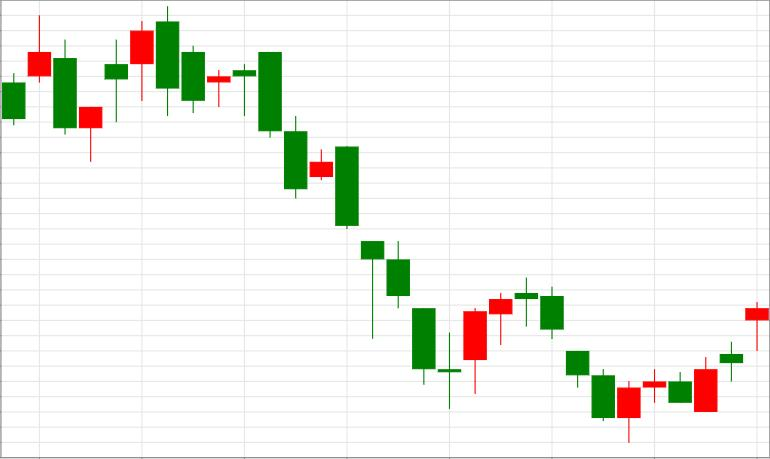morning_star_rise: (258, 51, 488, 409)
